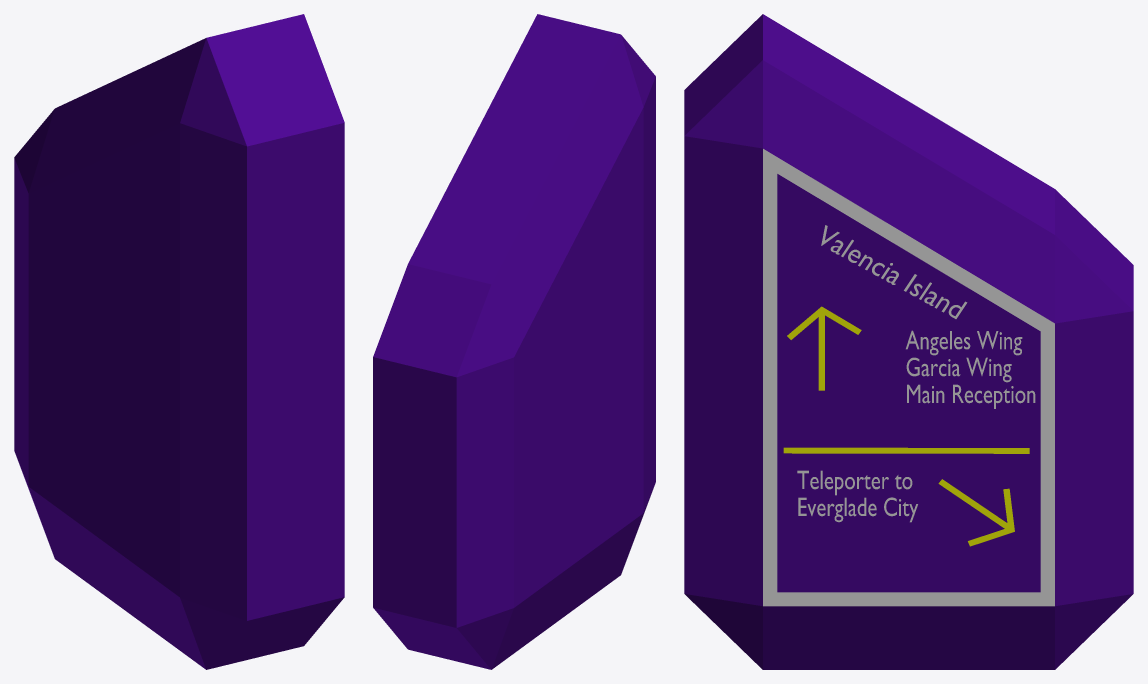
File: valencia_island_sign_5.fbx
3 renders of one model, left to right at view 1: azimuth 30°, elevation 25°; view 2: azimuth 150°, elevation 25°; view 3: azimuth 270°, elevation 25°, orthographic. The views are drawn at different scales.
Parts seen in each view (by area): view 1: Cube; view 2: Cube; view 3: Cube, Text.001, Text.002, Plane.003, Text.
Boxes of the visible parts, <box> form: Cube: <box>14,14,344,669</box>; Cube: <box>373,14,655,669</box>; Cube: <box>684,14,1133,669</box>; Text.001: <box>906,330,1035,408</box>; Text.002: <box>797,470,917,522</box>; Plane.003: <box>783,447,1029,453</box>; Text: <box>821,225,967,318</box>.
Size of the model in its own units: 13.3 by 52.06 by 34.77.
